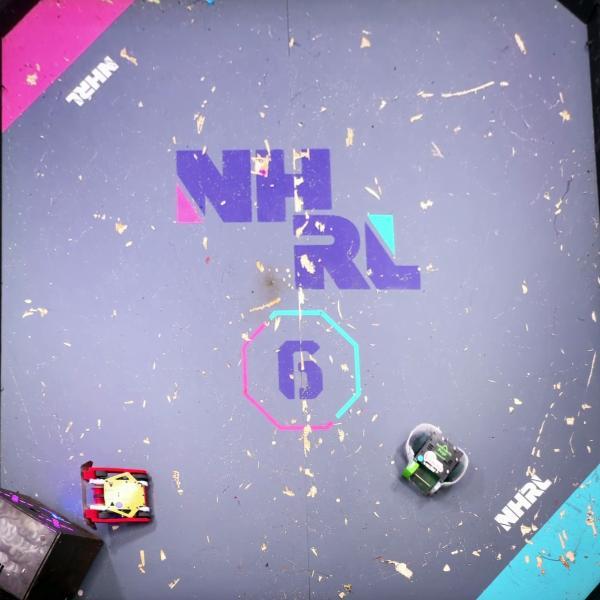housebot: (0, 487, 105, 600)
robot: (403, 422, 470, 500), (80, 458, 156, 526)
